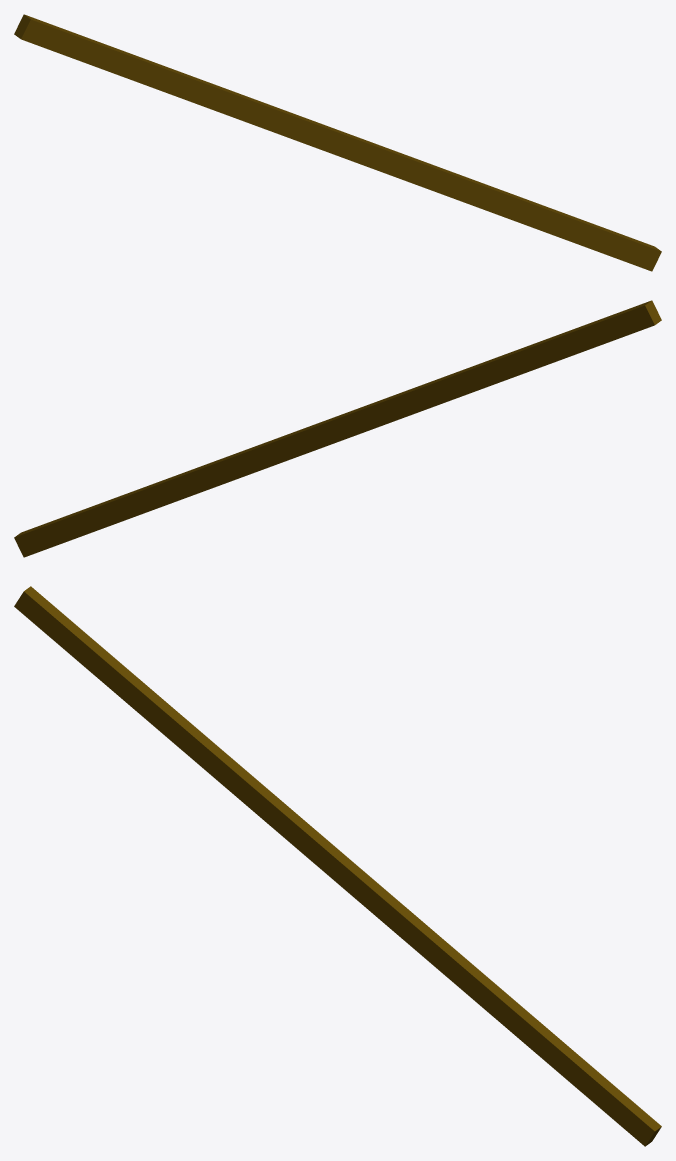
The model's file is roofSide.fbx.
3 renders of one model, top to bottom at view 1: azimuth 30°, elevation 25°; view 2: azimuth 150°, elevation 25°; view 3: azimuth 330°, elevation 25°, orthographic.
Visible parts, largest first — view 1: roofSide; view 2: roofSide; view 3: roofSide.
Part boxes in pixels (bbox=[...]): roofSide: bbox=[14, 14, 661, 271]; roofSide: bbox=[14, 300, 661, 557]; roofSide: bbox=[14, 586, 661, 1146].
Bounding box in the file's own units: 263 × 158 × 5.
